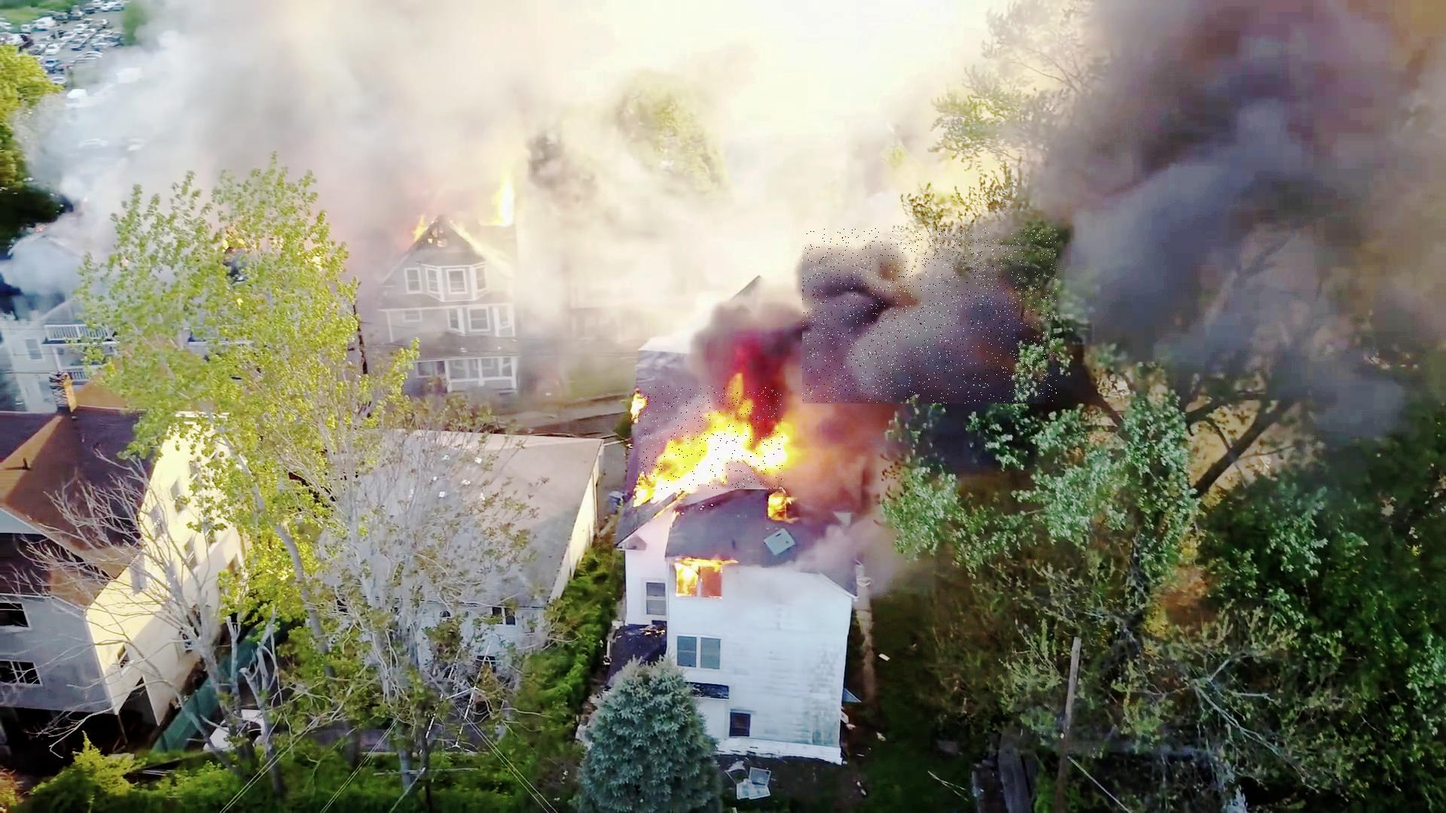fire: (638, 386, 783, 489)
smoke: (802, 228, 1057, 404)
